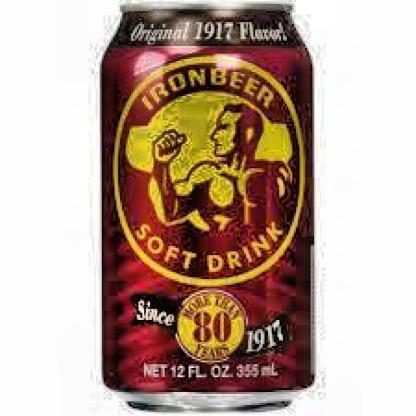Can: (96, 0, 320, 416)
